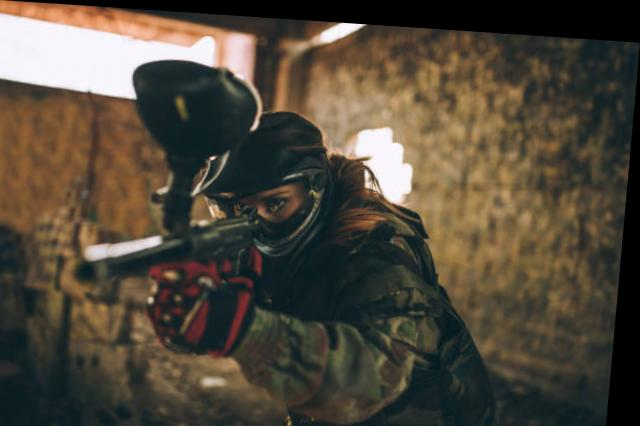other: (144, 104, 438, 424)
